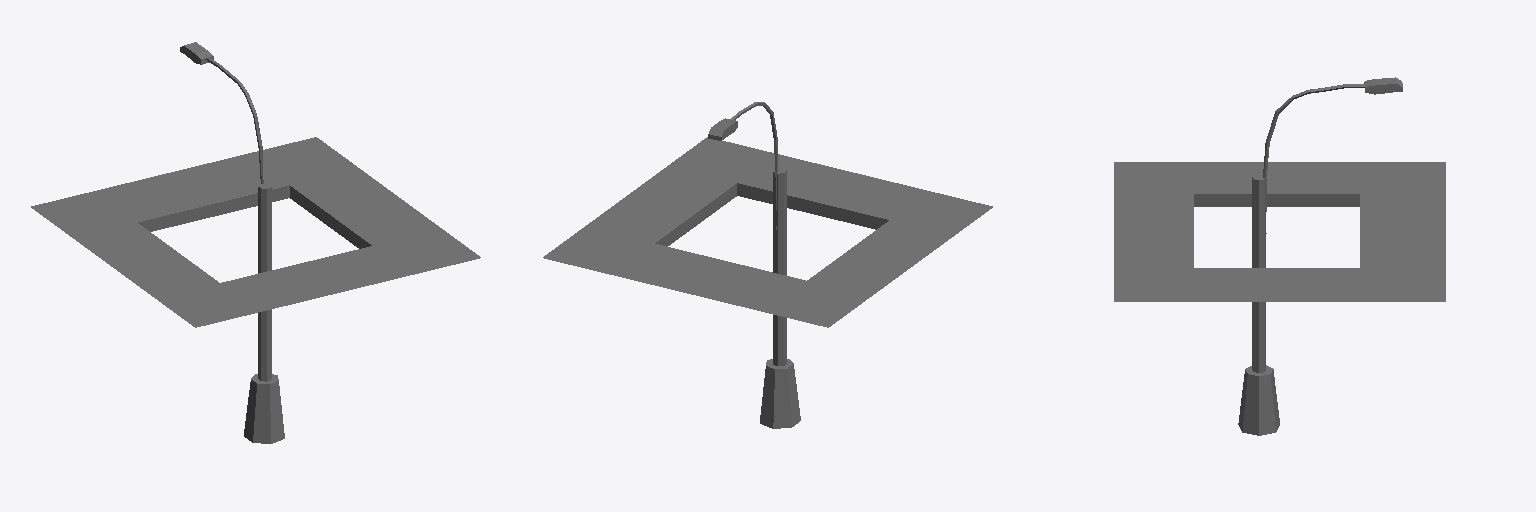
File: windowplanesimple.obj
3 renders of one model, left to right at view 1: azimuth 30°, elevation 25°; view 2: azimuth 150°, elevation 25°; view 3: azimuth 270°, elevation 25°, orthographic.
Visible parts, largest first — view 1: windowplanesimple2:pPlane4, polySurface4; view 2: windowplanesimple2:pPlane4, polySurface4; view 3: windowplanesimple2:pPlane4, polySurface4.
Boxes of the visible parts, <box> form: windowplanesimple2:pPlane4: <box>31,137,480,327</box>; polySurface4: <box>180,42,284,443</box>; windowplanesimple2:pPlane4: <box>543,137,992,327</box>; polySurface4: <box>708,102,800,428</box>; windowplanesimple2:pPlane4: <box>1114,162,1445,301</box>; polySurface4: <box>1238,77,1402,435</box>.
Size of the model in its own units: 1 by 1.14 by 1.